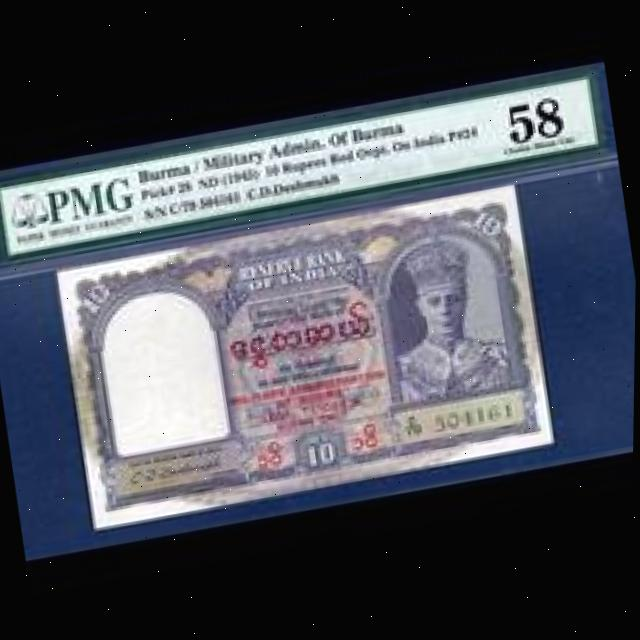banknote: (53, 190, 554, 529)
